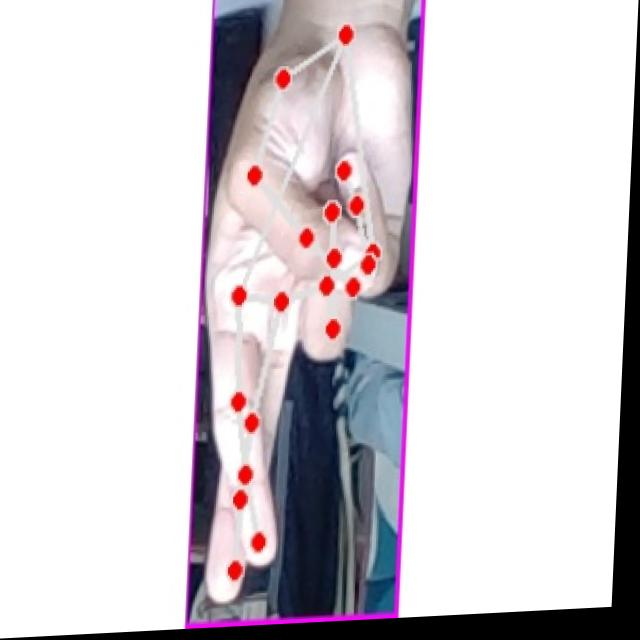R: (203, 15, 416, 620)
